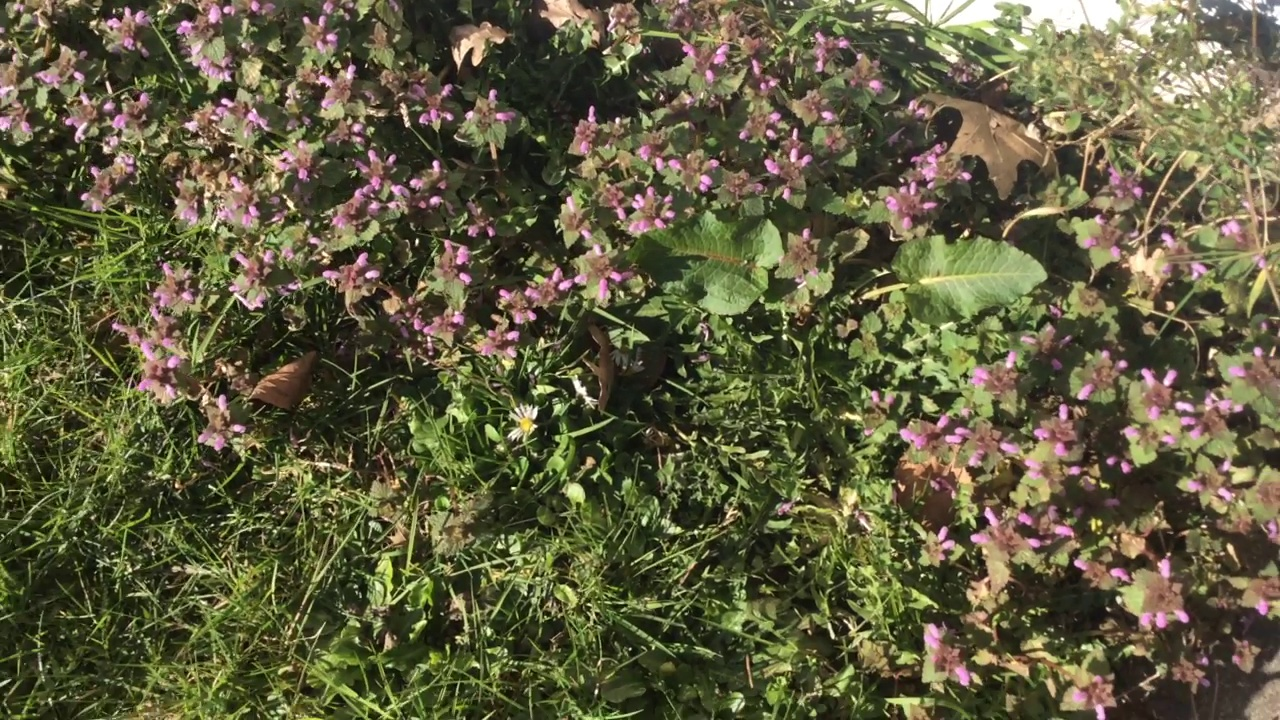rumex: (613, 208, 1048, 322)
